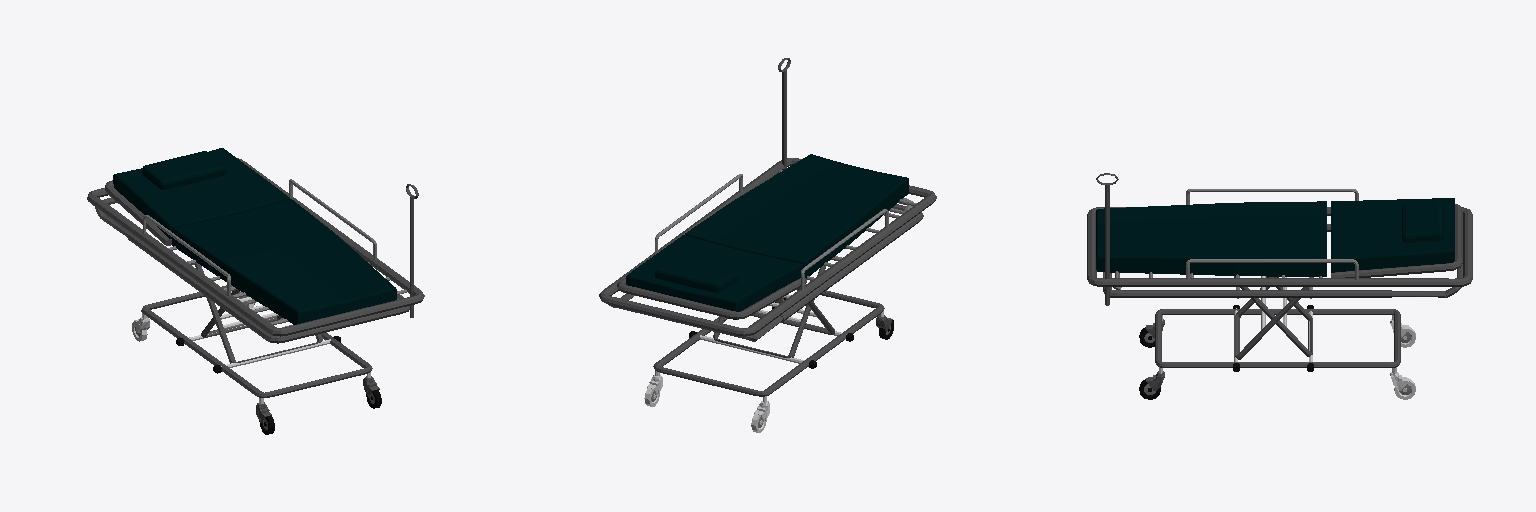
The model's file is Gurney.obj.
3 views of the same model, side by side, from view 1: azimuth 30°, elevation 25°; view 2: azimuth 150°, elevation 25°; view 3: azimuth 270°, elevation 25° (orthographic).
Visible parts, largest first — view 1: Gurney; view 2: Gurney; view 3: Gurney.
Part boxes in pixels (x1,y1,x2,y2): Gurney: (87,148,424,434); Gurney: (599,58,936,432); Gurney: (1087,173,1472,399).
Size of the model in its own units: 4.94 by 7.05 by 10.56.